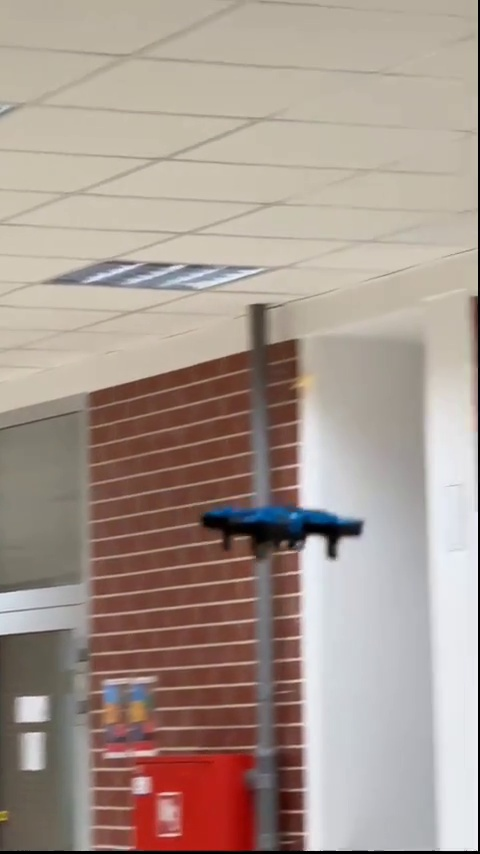drone: (208, 500, 365, 559)
